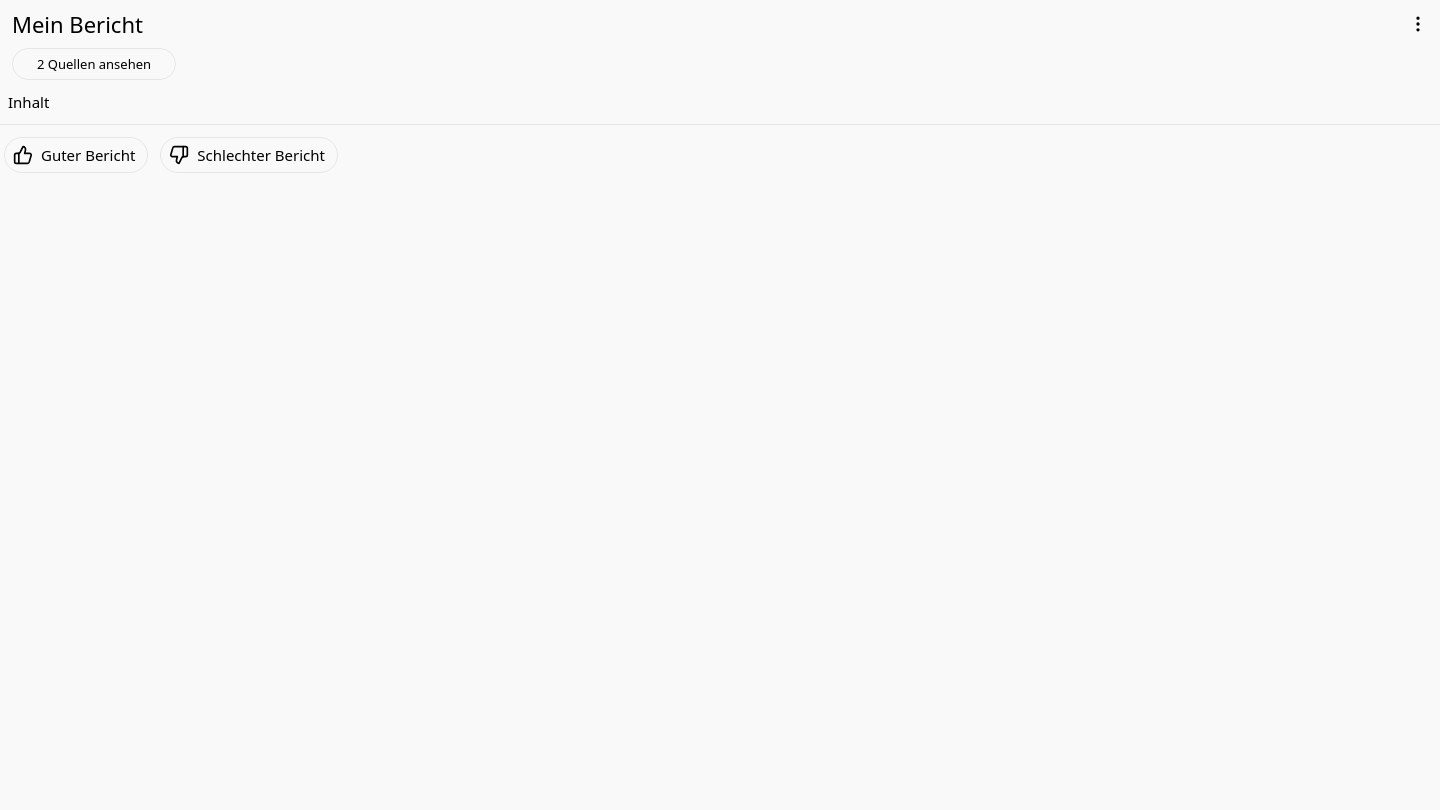
Scenario: ViewerFrame › names only the sources where the original shows no prompt
Click the button "2 Quellen ansehen". click: [94, 64]
box: [12, 48, 176, 80]
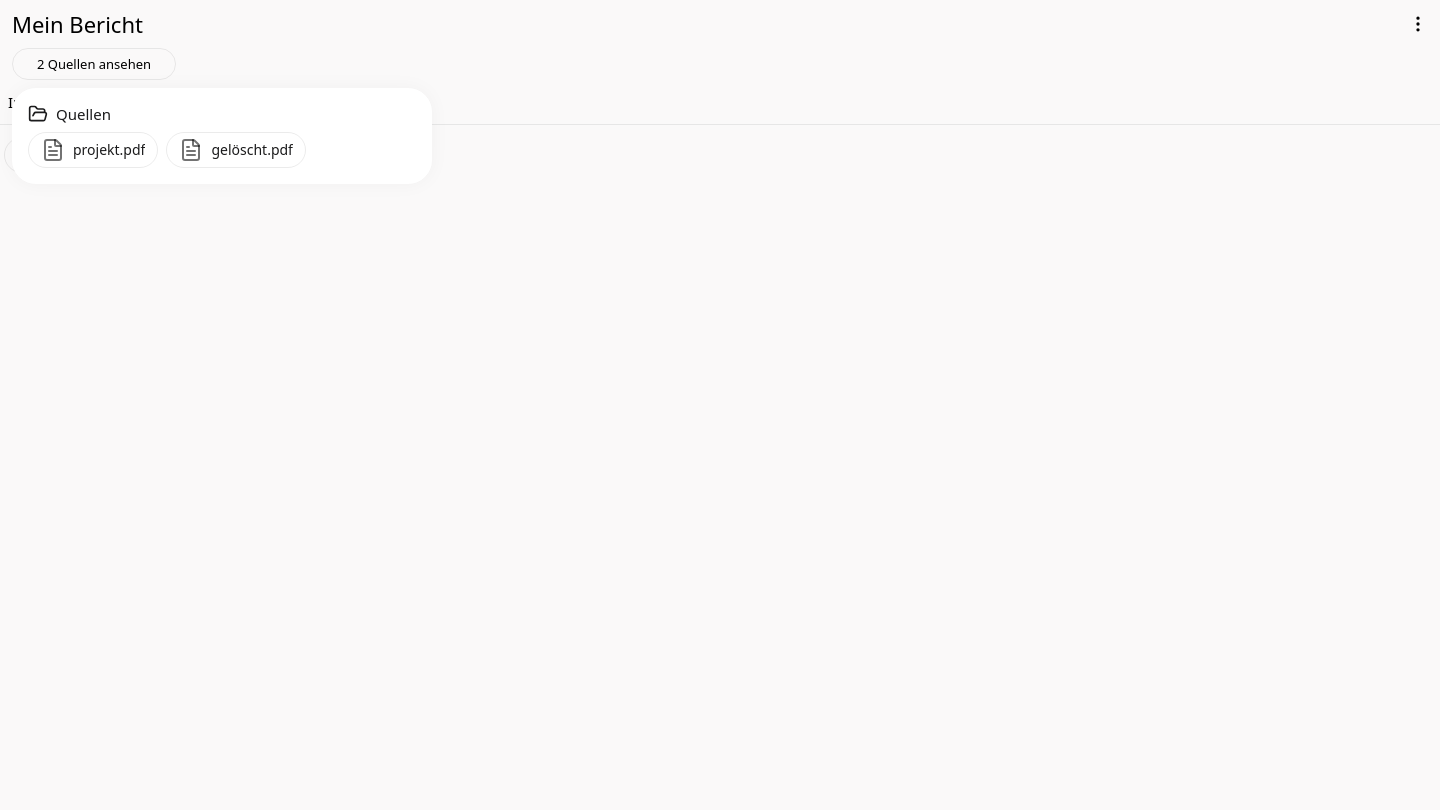
Expected: the text "projekt.pdf" is shown, [73, 140, 145, 160]
